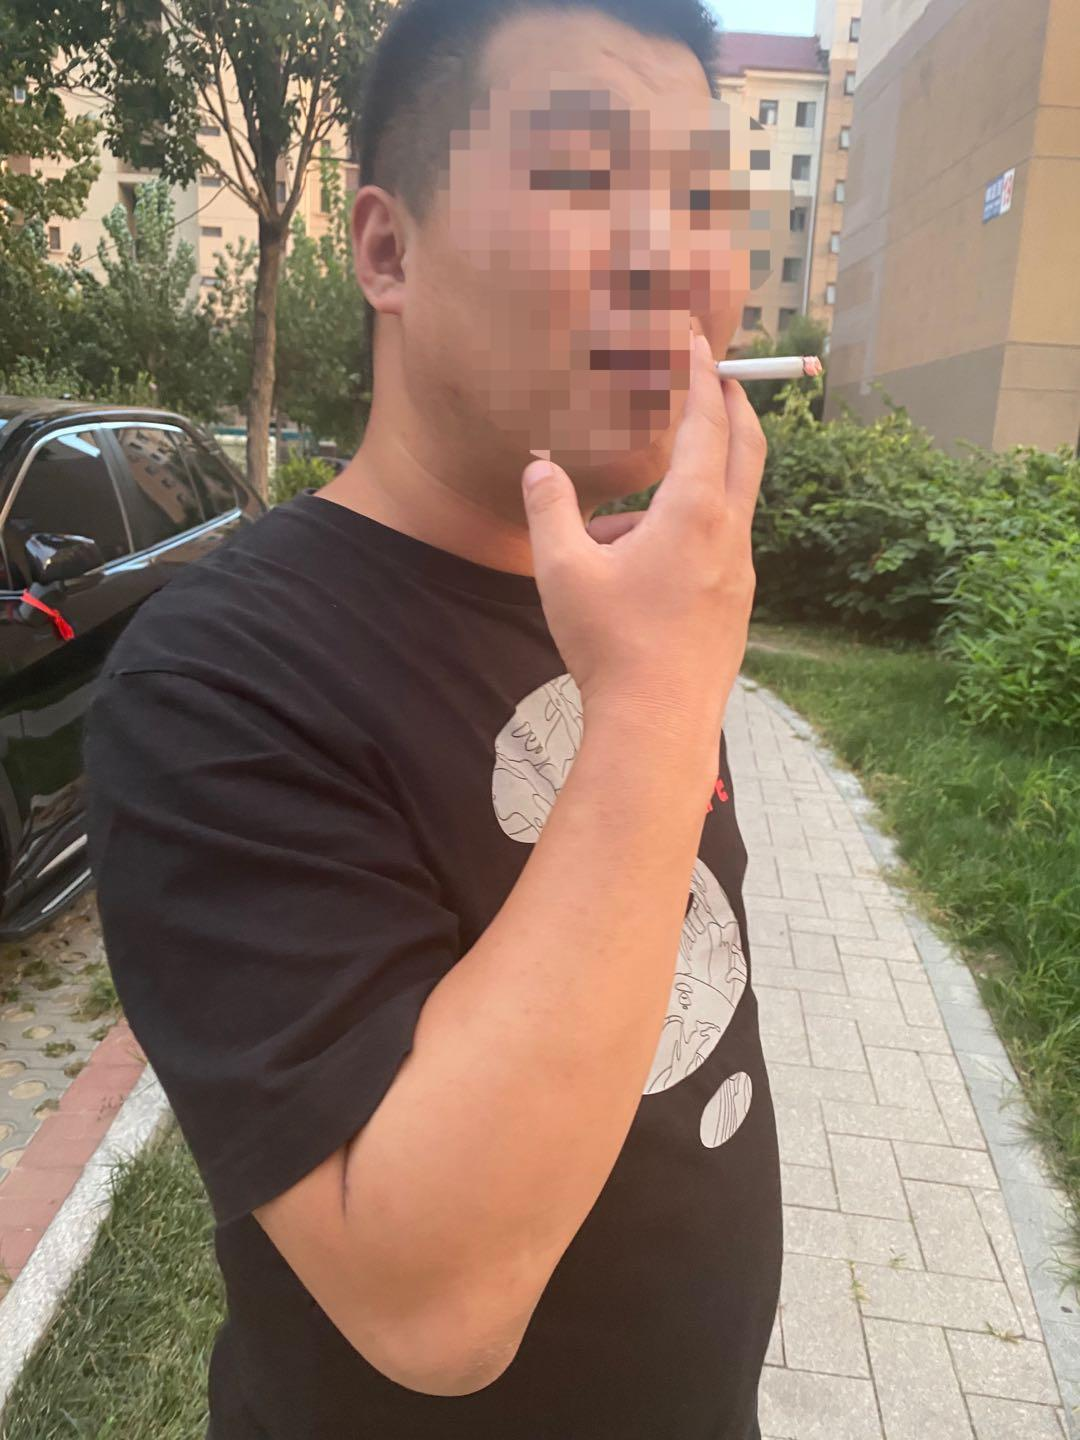smoke: (670, 357, 829, 383)
